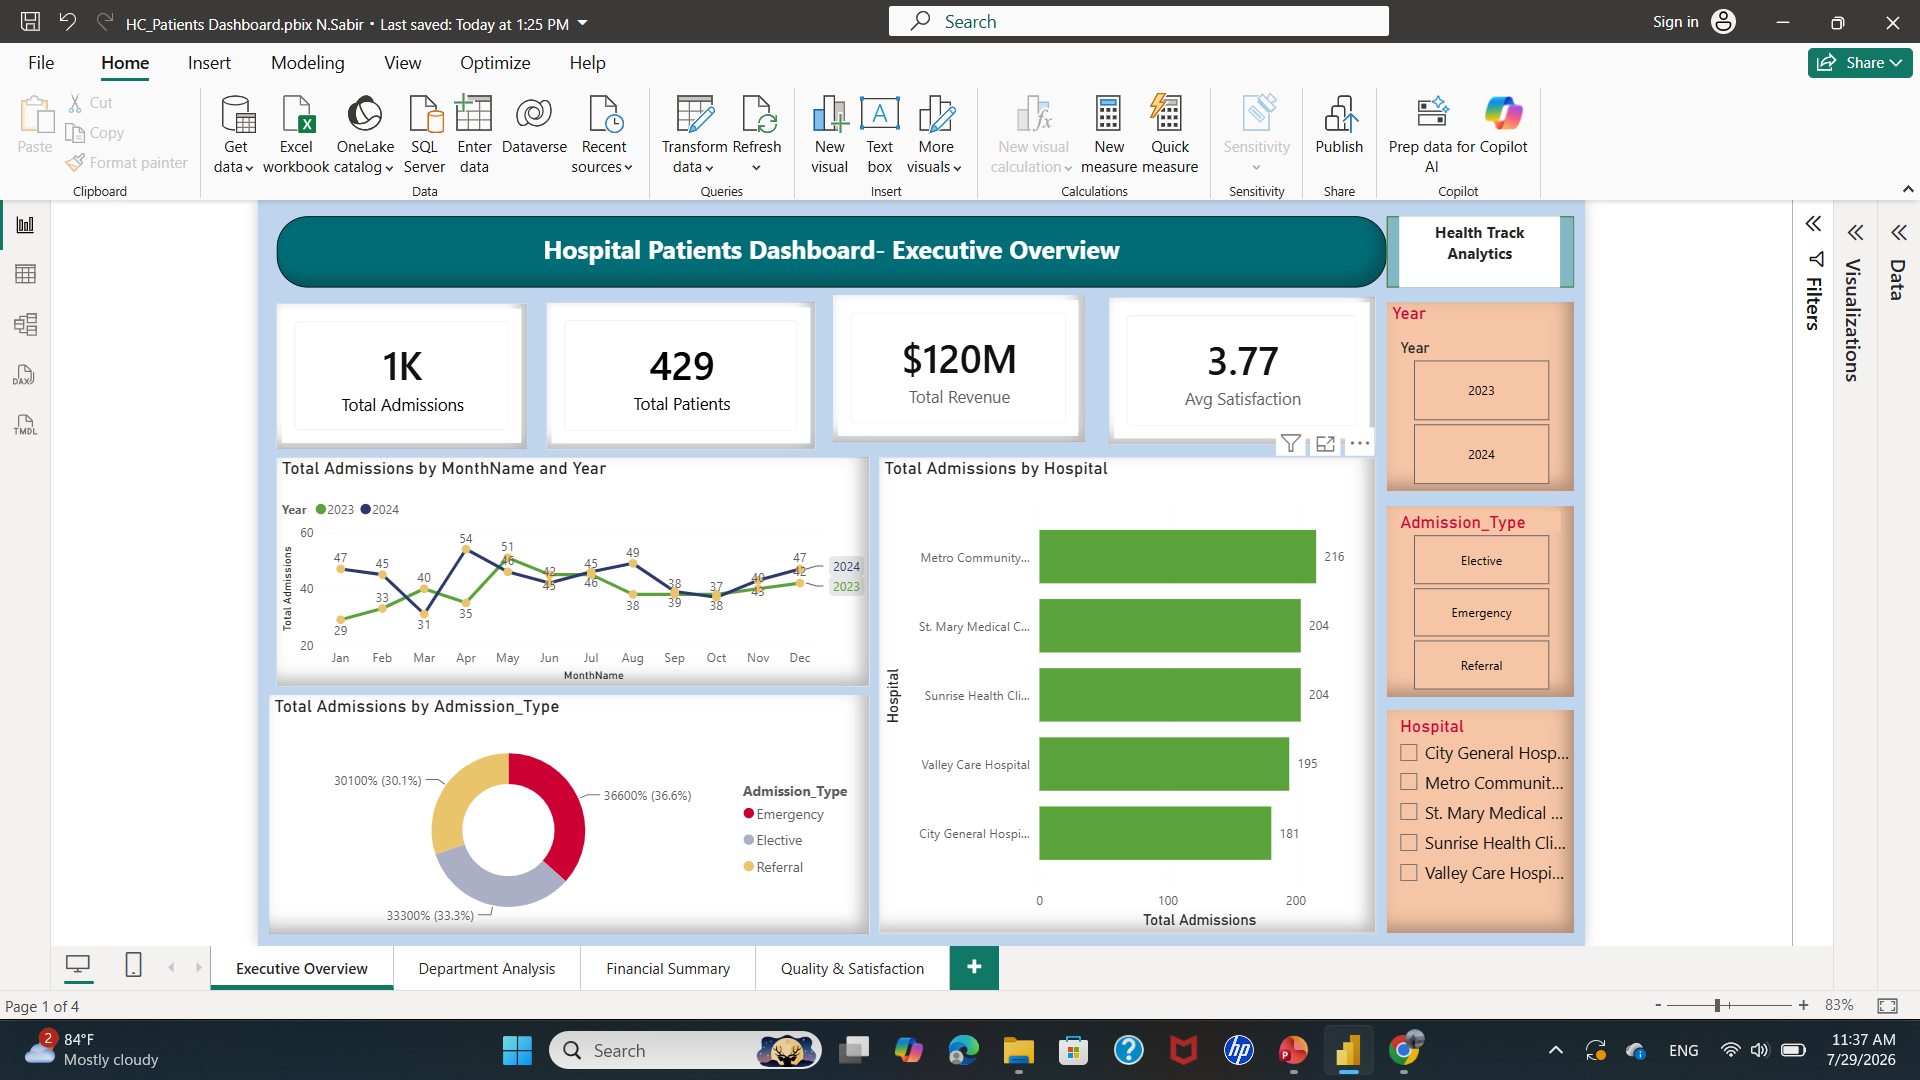

This screenshot's page, from the dashboard's own definition file:
{"tool":"powerbi","page":{"name":"Executive Overview","canvas":[1280,720],"ordinal":0},"visuals":[{"type":"textbox","box":[0,0,1280,38.9],"z":0},{"type":"shape","box":[1152.5,4.3,127.5,30.2],"z":1000},{"type":"cardVisual","fields":{"Data":["_Measures.Total Admissions"]},"box":[22.7,49.6,197.3,97.1],"z":2000},{"type":"cardVisual","fields":{"Data":["_Measures.Total Patients"]},"box":[235.5,49.6,170.5,97.1],"z":3000},{"type":"cardVisual","fields":{"Data":["_Measures.Total Revenue"]},"box":[421.9,49.9,208.1,96.8],"z":4000},{"type":"cardVisual","fields":{"Data":["_Measures.Avg Satisfaction"]},"box":[651,48.9,191.8,96.8],"z":5000},{"type":"lineChart","title":"Admissions per Month","fields":{"Y":["_Measures.Total Admissions"],"Series":["DimDate.Year"],"Category":["DimDate.MonthName"]},"box":[22.7,163.2,573.4,267.6],"z":6000},{"type":"donutChart","title":"Admissions by Admission Type","fields":{"Y":["_Measures.Total Admissions"],"Category":["Admissions.Admission_Type"]},"box":[630.2,441.1,596.1,267.6],"z":7000},{"type":"barChart","title":"Top Hospitals by Admissions","fields":{"Category":["Admissions.Hospital"],"Y":["_Measures.Total Admissions"]},"box":[22.7,441.1,573.4,266.5],"z":8000},{"type":"advancedSlicerVisual","fields":{"Values":["DimDate.Year"]},"box":[899.8,222.1,140.5,128.1],"z":9000},{"type":"advancedSlicerVisual","title":"Admission Type","fields":{"Values":["Admissions.Admission_Type"]},"box":[899.8,49.6,140.5,164.3],"z":10000},{"type":"advancedSlicerVisual","fields":{"Values":["Admissions.Hospital"]},"box":[1054.8,49.6,225.2,300.6],"z":11000}]}

Visuals, with their boxes on the page's 1280x720 design canvas (x1, y1, x2, y2). These are canvas units, not pixel positions in the 1920x1080 screenshot, which may show the page scaled, cropped or inside an application window:
textbox: left=0, top=0, right=1280, bottom=39
shape: left=1152, top=4, right=1280, bottom=34
cardVisual - _Measures.Total Admissions: left=23, top=50, right=220, bottom=147
cardVisual - _Measures.Total Patients: left=236, top=50, right=406, bottom=147
cardVisual - _Measures.Total Revenue: left=422, top=50, right=630, bottom=147
cardVisual - _Measures.Avg Satisfaction: left=651, top=49, right=843, bottom=146
"Admissions per Month" lineChart: left=23, top=163, right=596, bottom=431
"Admissions by Admission Type" donutChart: left=630, top=441, right=1226, bottom=709
"Top Hospitals by Admissions" barChart: left=23, top=441, right=596, bottom=708
advancedSlicerVisual - DimDate.Year: left=900, top=222, right=1040, bottom=350
"Admission Type" advancedSlicerVisual: left=900, top=50, right=1040, bottom=214
advancedSlicerVisual - Admissions.Hospital: left=1055, top=50, right=1280, bottom=350
